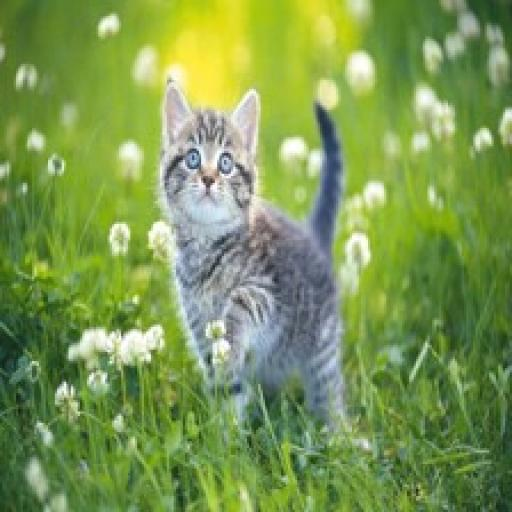cat: (143, 61, 352, 458)
